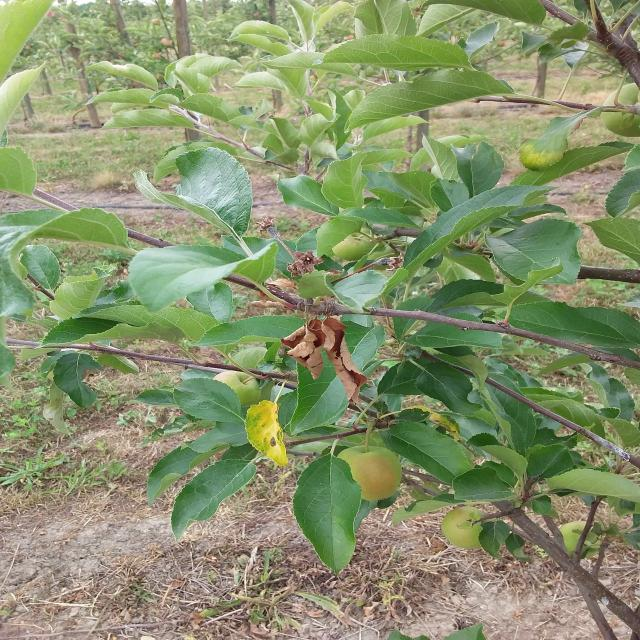-FireBlight-: (282, 260, 362, 400)
